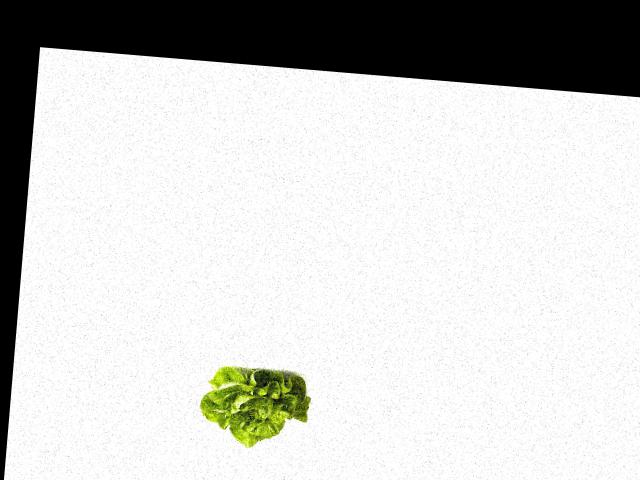lettuce: (193, 363, 314, 451)
